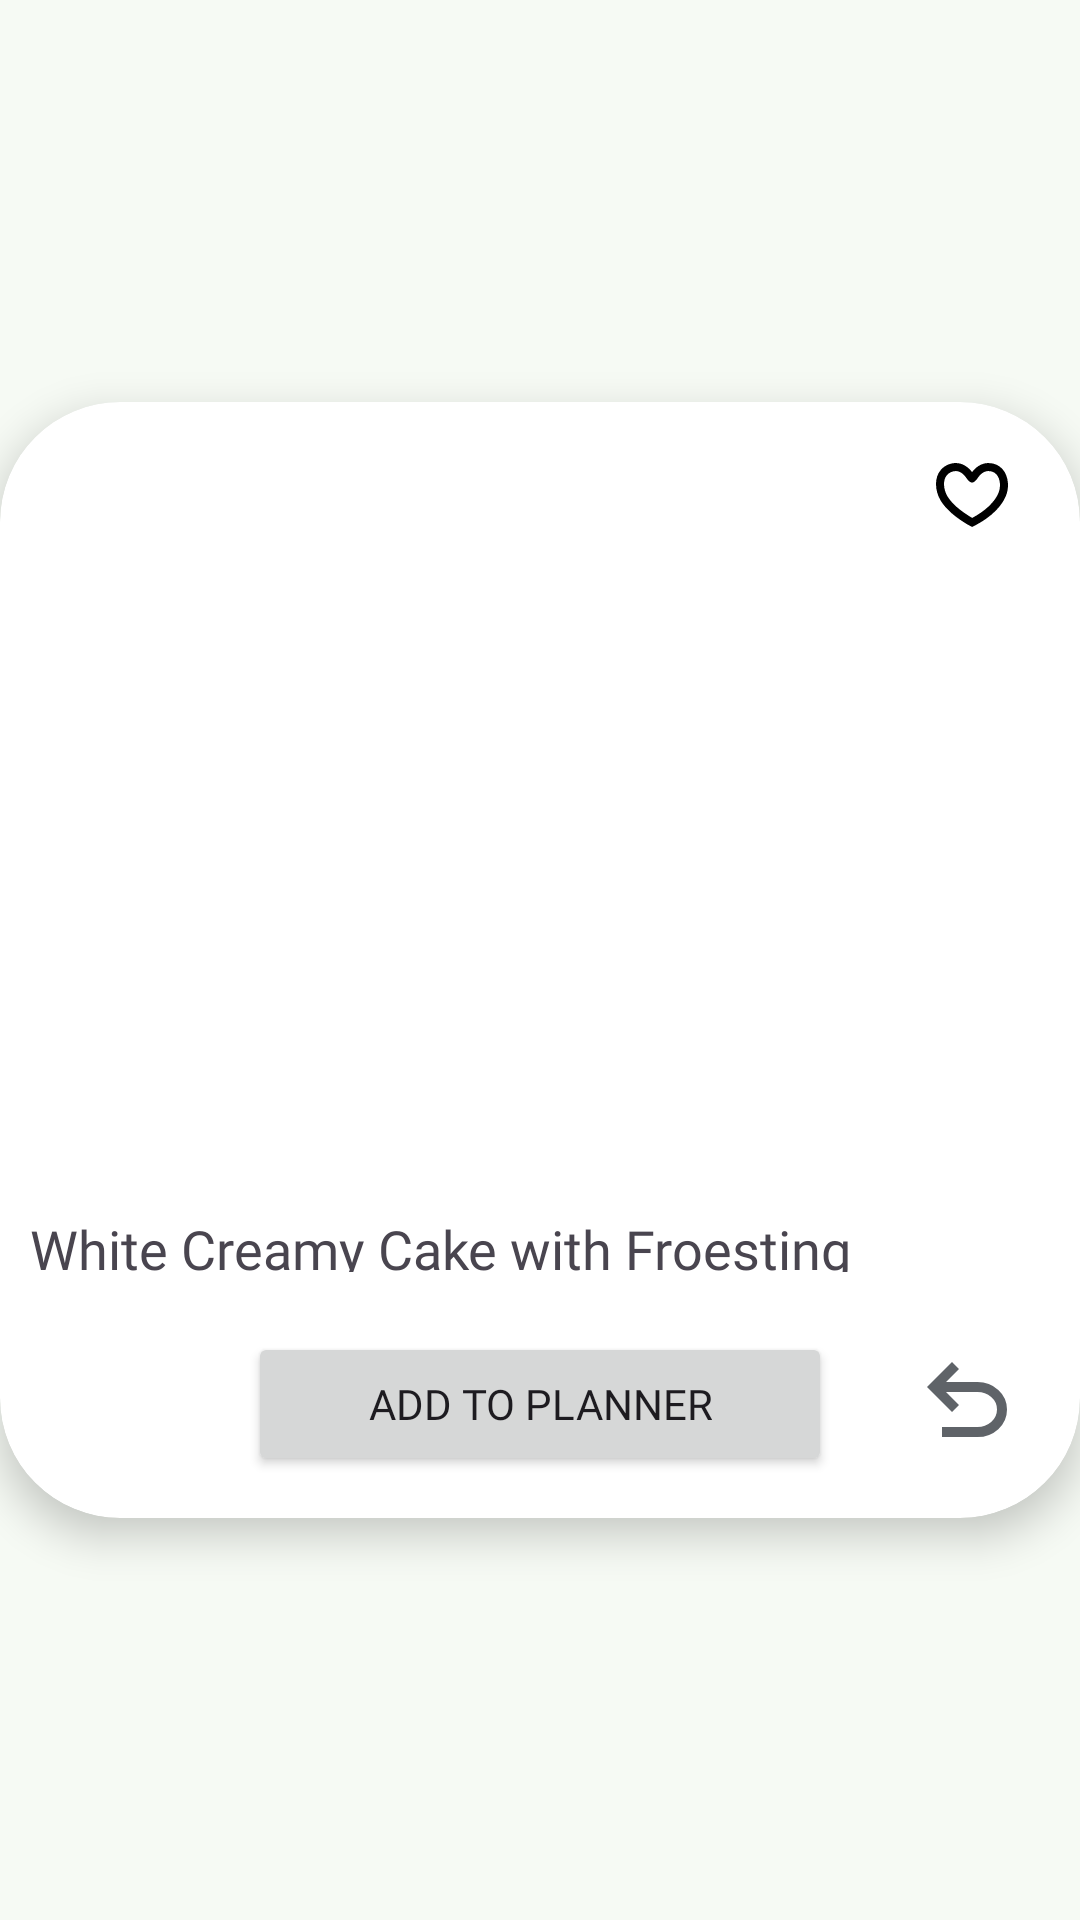

Where to tap for icons on this 1080w x 1920h app screen, as point (x, y):
outlineheart: point (972, 495)
undo: point (967, 1399)
